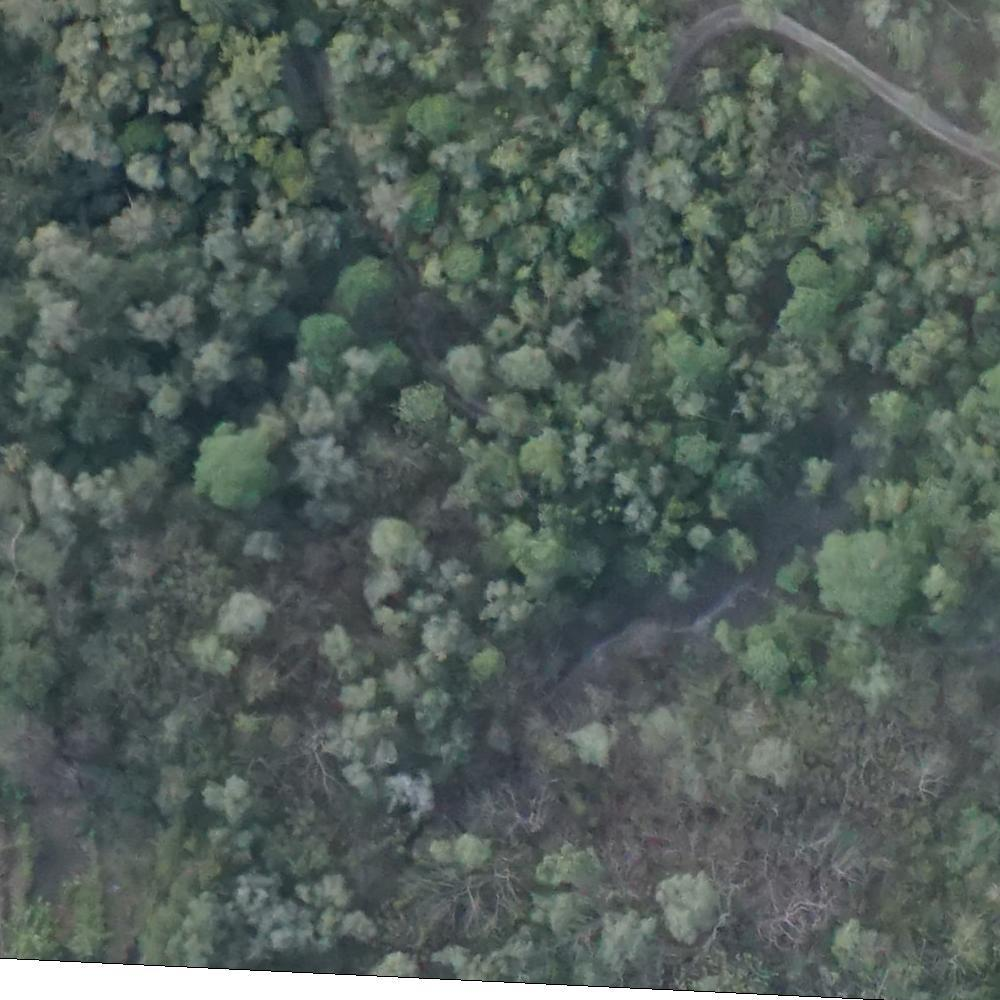tree: (816, 527, 901, 627), (651, 869, 729, 956), (196, 434, 279, 508), (205, 258, 278, 335), (405, 88, 485, 152), (333, 254, 400, 327), (403, 377, 471, 444), (2, 643, 66, 708), (208, 584, 268, 649), (513, 428, 571, 494), (671, 333, 729, 397), (190, 771, 256, 827), (868, 384, 923, 448), (297, 438, 357, 493), (630, 200, 679, 261), (647, 155, 703, 208), (436, 234, 486, 290), (739, 638, 793, 689), (866, 473, 916, 528), (921, 563, 977, 612), (799, 72, 852, 122), (54, 107, 109, 155), (20, 370, 75, 418), (124, 455, 171, 511), (494, 341, 548, 389), (420, 613, 481, 655), (280, 148, 327, 202), (889, 337, 939, 387), (924, 312, 974, 361), (833, 923, 882, 972), (786, 245, 840, 289), (306, 313, 353, 363), (114, 199, 161, 249), (75, 469, 124, 516), (568, 722, 614, 772), (747, 732, 790, 785), (371, 516, 416, 566), (714, 524, 758, 573), (678, 425, 721, 474), (743, 101, 801, 136), (449, 348, 495, 392), (193, 338, 239, 381), (574, 266, 619, 309), (569, 219, 613, 260), (859, 665, 897, 712), (705, 97, 754, 133), (828, 620, 871, 661), (318, 629, 357, 673), (493, 387, 532, 431), (780, 554, 818, 599), (153, 382, 190, 425), (32, 467, 65, 515), (445, 829, 481, 870), (802, 459, 838, 499), (314, 873, 353, 909), (129, 155, 166, 189), (124, 120, 165, 150), (552, 843, 586, 878), (340, 917, 380, 946), (673, 576, 707, 610), (492, 137, 528, 169), (243, 527, 275, 562), (963, 810, 994, 845), (343, 762, 375, 795), (520, 55, 551, 89), (682, 524, 714, 553)
